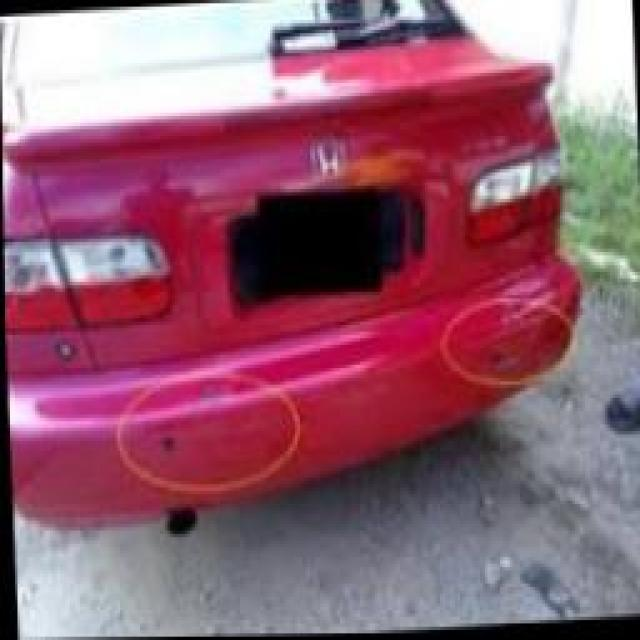Bumper: (468, 332, 533, 396), (142, 424, 188, 478)
